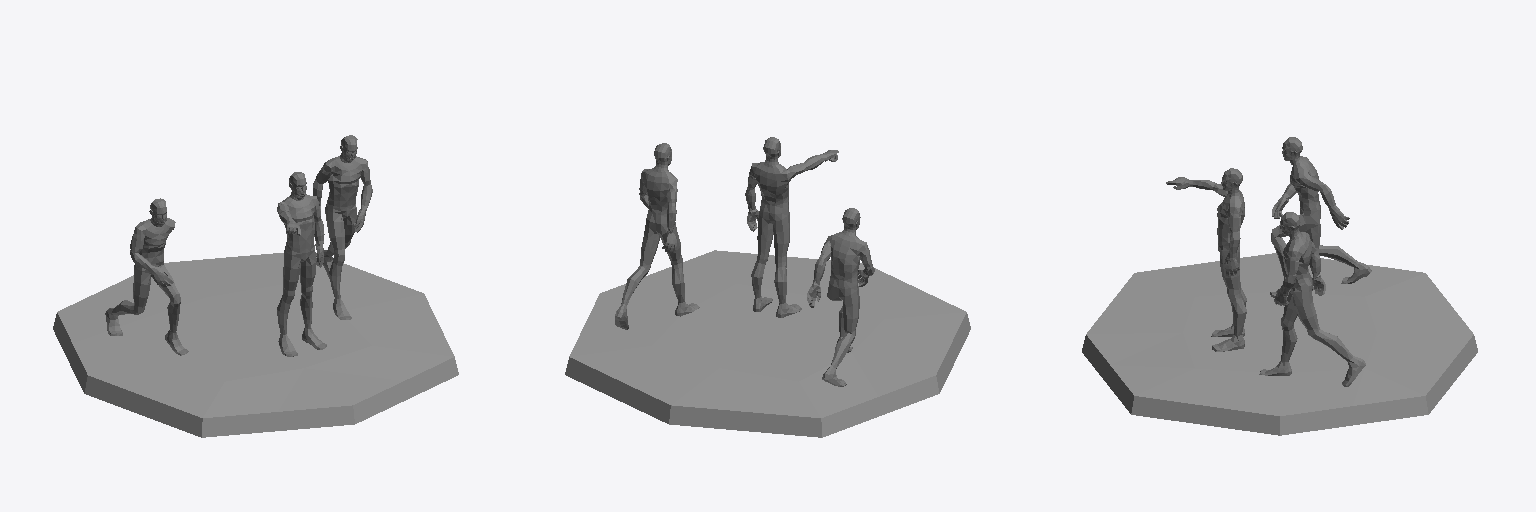
The model's file is oddzialludzikow.obj.
3 renders of one model, left to right at view 1: azimuth 30°, elevation 25°; view 2: azimuth 150°, elevation 25°; view 3: azimuth 270°, elevation 25°, orthographic.
Visible parts, largest first — view 1: Plane, Low_Poly_Characte.000_Mesh.000, Low_Poly_Characte.000_Mesh.002, Low_Poly_Characte.000_Mesh.001; view 2: Plane, Low_Poly_Characte.000_Mesh.000, Low_Poly_Characte.000_Mesh.002, Low_Poly_Characte.000_Mesh.001; view 3: Plane, Low_Poly_Characte.000_Mesh.002, Low_Poly_Characte.000_Mesh.001, Low_Poly_Characte.000_Mesh.000.
Boxes of the visible parts, x1,y1,x2,y2 form: Plane: [53, 253, 458, 437]; Low_Poly_Characte.000_Mesh.000: [277, 172, 326, 356]; Low_Poly_Characte.000_Mesh.002: [313, 135, 372, 319]; Low_Poly_Characte.000_Mesh.001: [105, 198, 188, 355]; Plane: [565, 250, 970, 437]; Low_Poly_Characte.000_Mesh.000: [745, 137, 838, 317]; Low_Poly_Characte.000_Mesh.002: [615, 143, 699, 329]; Low_Poly_Characte.000_Mesh.001: [807, 208, 874, 386]; Plane: [1082, 253, 1477, 435]; Low_Poly_Characte.000_Mesh.002: [1259, 212, 1365, 386]; Low_Poly_Characte.000_Mesh.001: [1270, 137, 1371, 297]; Low_Poly_Characte.000_Mesh.000: [1166, 168, 1246, 351].
Size of the model in its own units: 1.02 by 0.5456 by 1.02.